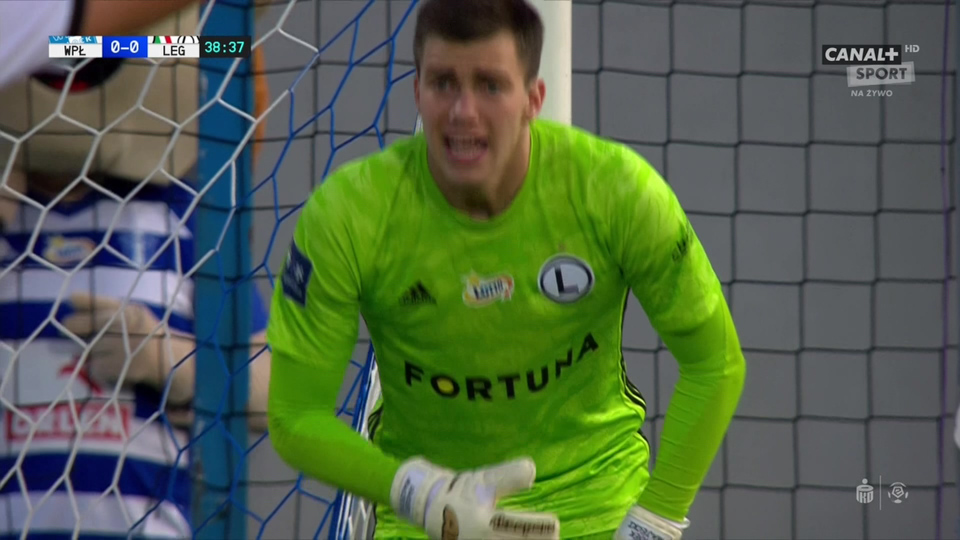Adidas: (399, 277, 438, 307)
